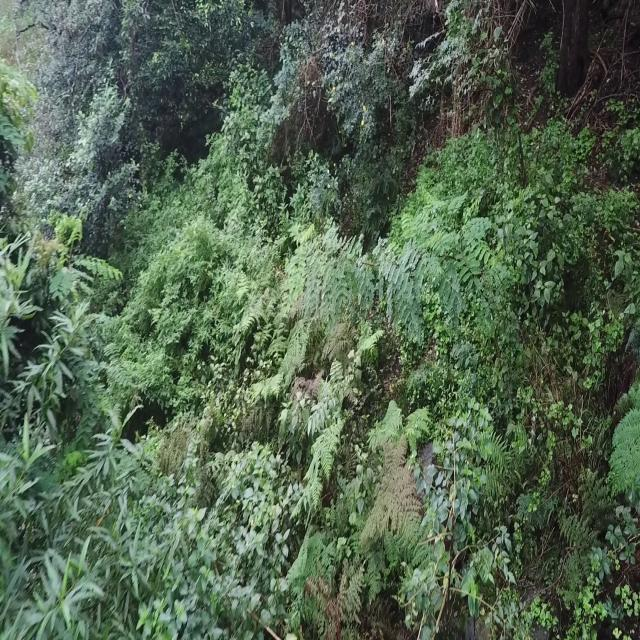Mysore-Thorn-Weed: (276, 211, 482, 317)
